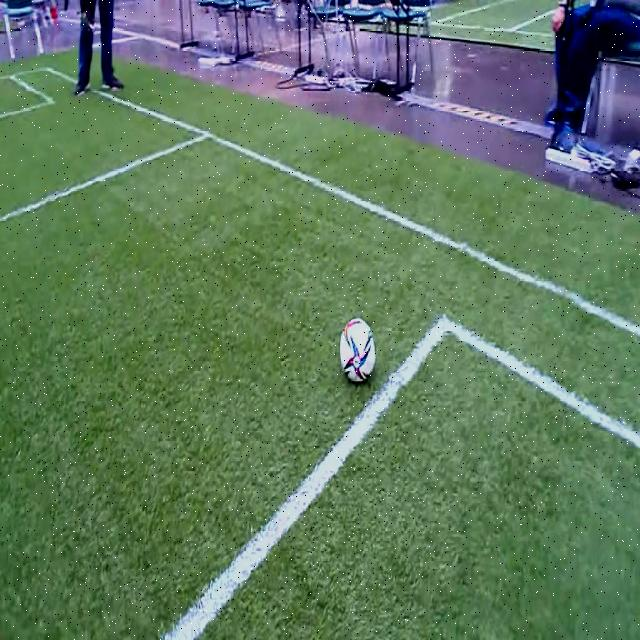ball: (340, 318, 375, 383)
